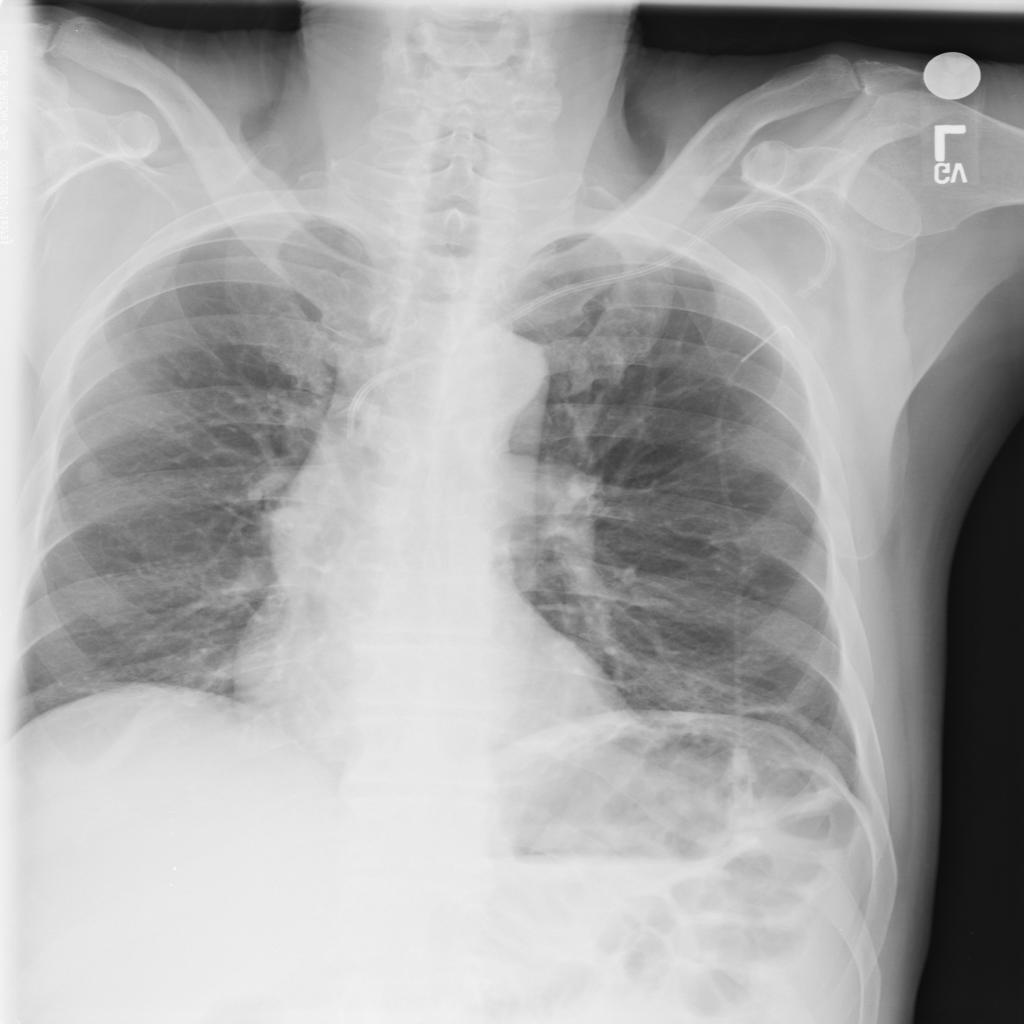nodule: (64, 449, 120, 493)
